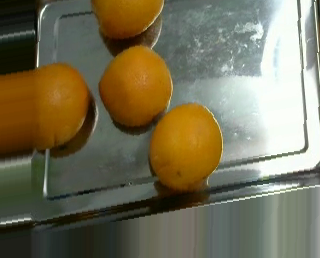Orange: (148, 101, 222, 188), (100, 44, 172, 126)
